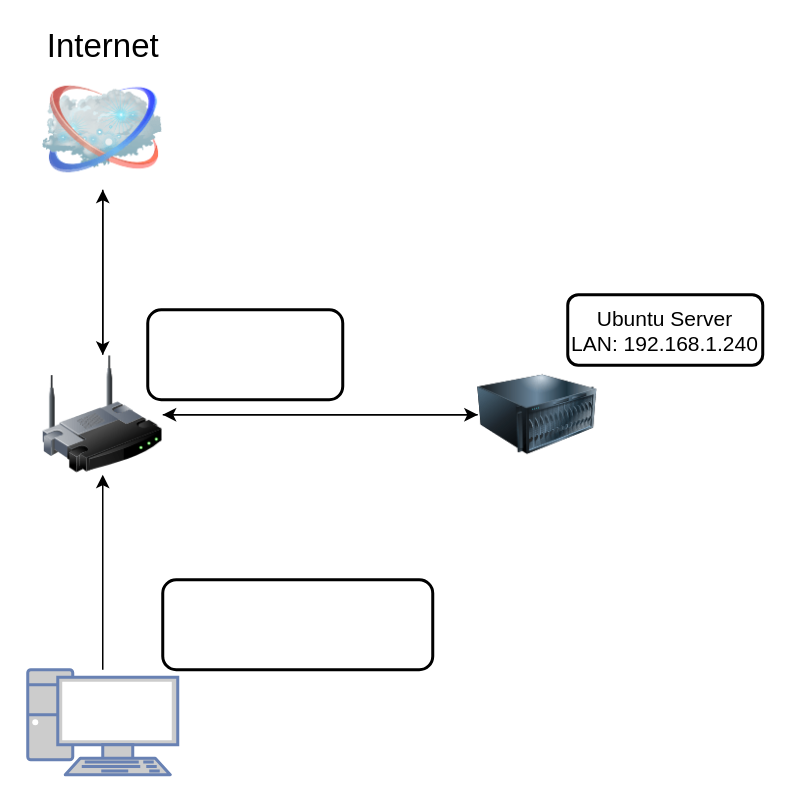
The diagram is 789 pixels wide and 801 high, and some of its shapes have lost their labels. The shapes that lost their labels are listed below. From the top down, each one's centre as x and y in pixels, then its label:
At [245,354]: "pfSense WAN: 10.0.2.6 LAN: 192.168.1.1".
At [297,624]: "Windows 10 WAN: 10.0.2.7".
